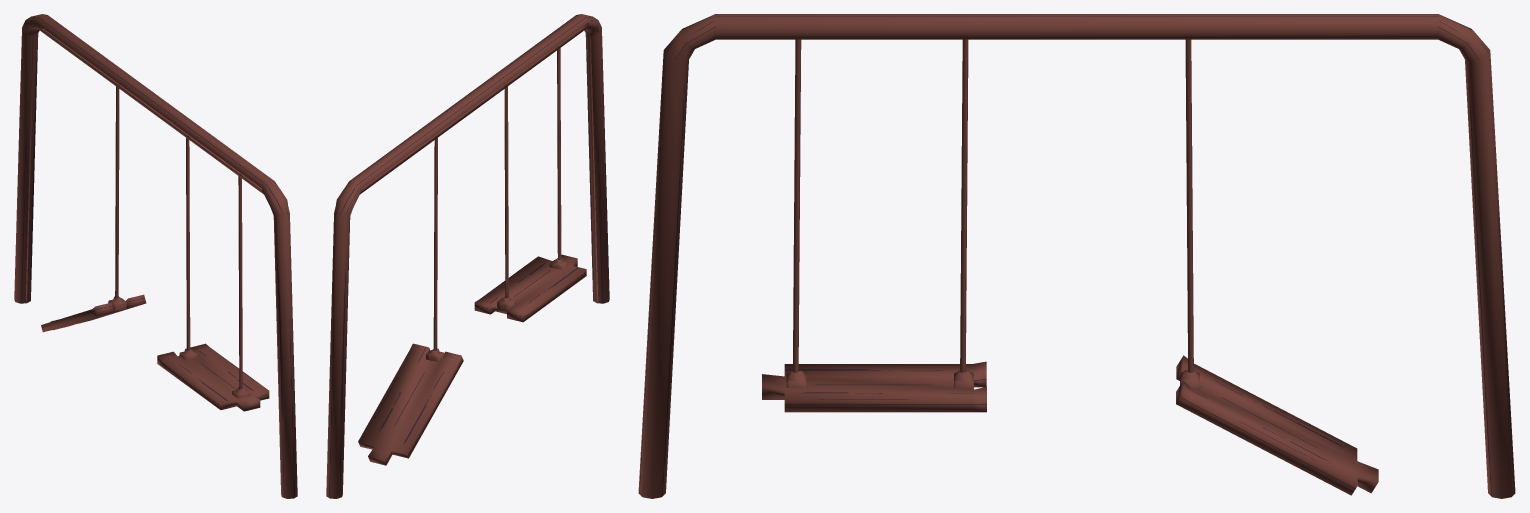
Rendered from Balanco.fbx.
3 renders of one model, left to right at view 1: azimuth 30°, elevation 25°; view 2: azimuth 150°, elevation 25°; view 3: azimuth 270°, elevation 25°, orthographic. The views are drawn at different scales.
Visible parts, largest first — view 1: Balanca; view 2: Balanca; view 3: Balanca.
Part boxes in pixels (x1,y1,x2,y2): Balanca: (14, 14, 297, 498); Balanca: (326, 14, 609, 498); Balanca: (638, 14, 1515, 498).
Bounding box in the file's own units: 83.98 × 825 × 497.
